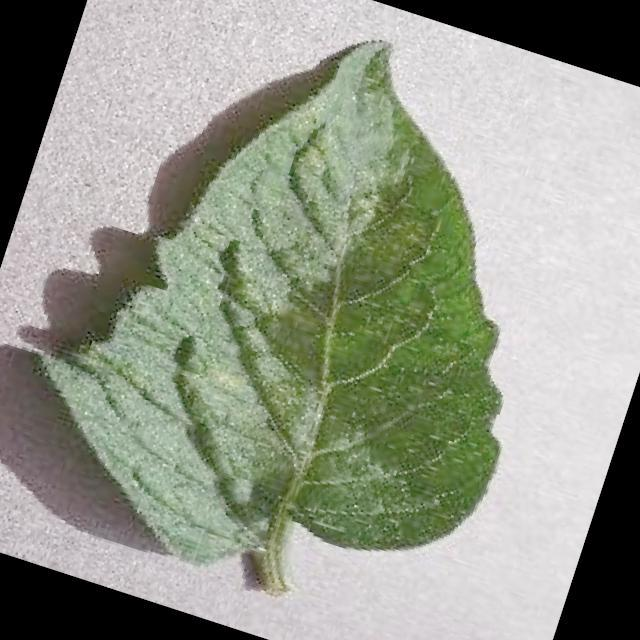Tomato spider mites leaf: (0, 0, 609, 635)
